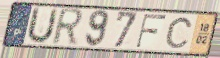7: (115, 10, 139, 50)
9: (83, 9, 110, 49)
C: (164, 16, 194, 50)
F: (134, 13, 168, 49)
R: (50, 7, 86, 47)
U: (24, 6, 60, 45)
